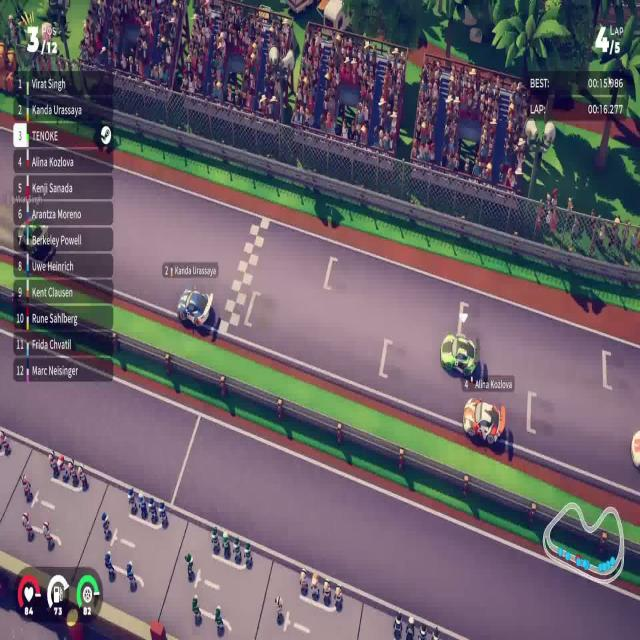car: (462, 396, 506, 446), (441, 331, 480, 377), (176, 285, 214, 329)
